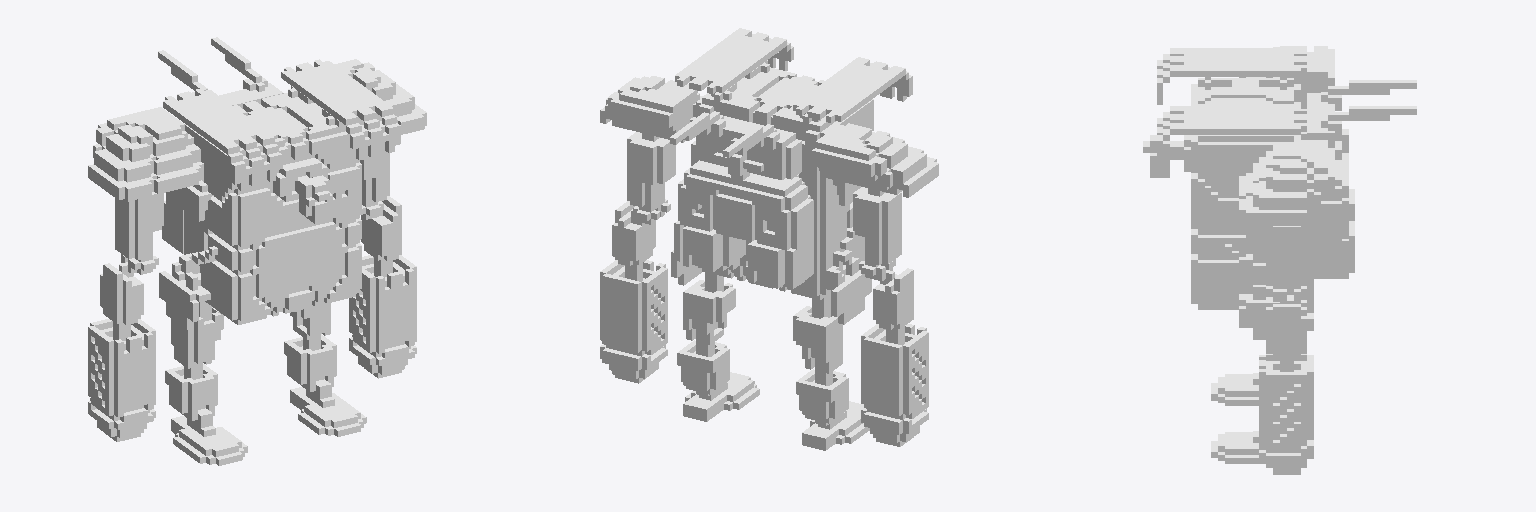
Rendered from MechaGolem.obj.
3 views of the same model, side by side, from view 1: azimuth 30°, elevation 25°; view 2: azimuth 150°, elevation 25°; view 3: azimuth 270°, elevation 25° (orthographic).
Parts seen in each view (by area): view 1: ObjObject; view 2: ObjObject; view 3: ObjObject.
Boxes of the visible parts, x1,y1,x2,y2 form: ObjObject: [88, 37, 426, 465]; ObjObject: [600, 28, 938, 450]; ObjObject: [1143, 46, 1416, 474].
Size of the model in its own units: 5.2 by 5.4 by 4.